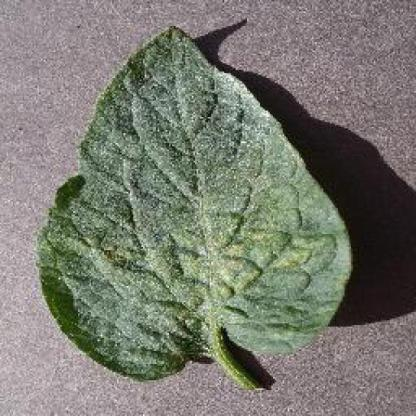Tomato_Spider_Mites: (40, 26, 352, 380)
